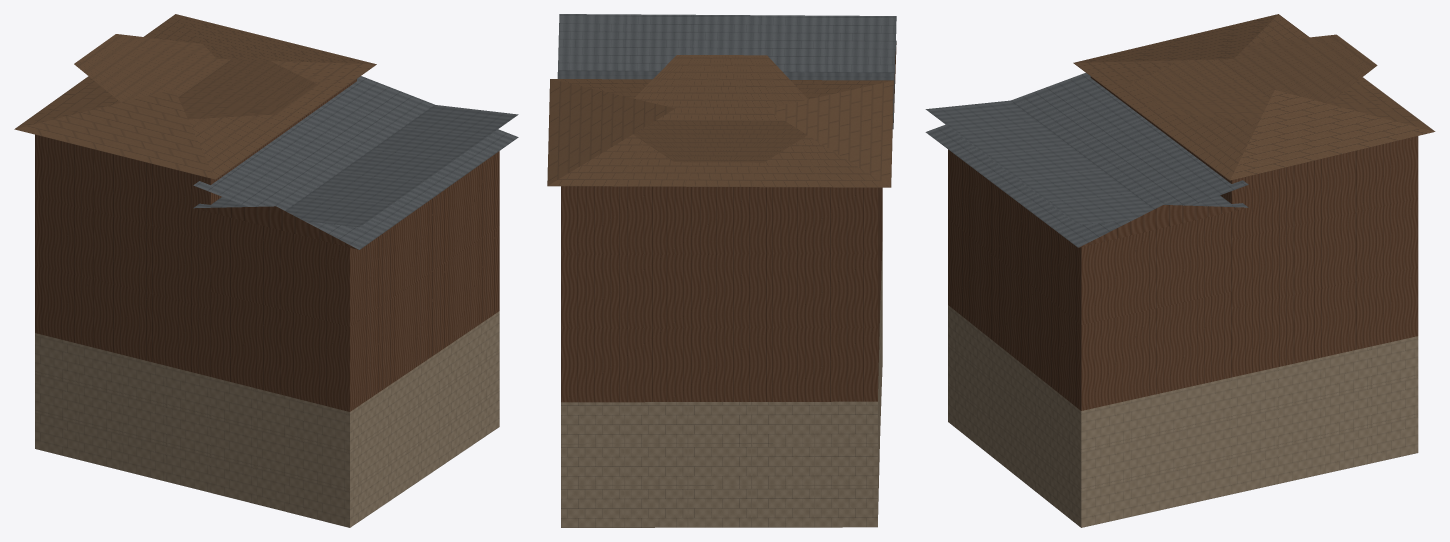
File: bld_c23_29_399.gltf
3 renders of one model, left to right at view 1: azimuth 30°, elevation 25°; view 2: azimuth 150°, elevation 25°; view 3: azimuth 270°, elevation 25°, orthographic. The views are drawn at different scales.
Parts seen in each view (by area): view 1: bld_c23_29_399; view 2: bld_c23_29_399; view 3: bld_c23_29_399.
Part boxes in pixels (x1,y1,x2,y2): bld_c23_29_399: (14, 14, 518, 527); bld_c23_29_399: (547, 14, 896, 527); bld_c23_29_399: (925, 14, 1435, 527).
Bounding box in the file's own units: 18.67 × 15.1 × 20.17.
5 materials, 5 textured.
